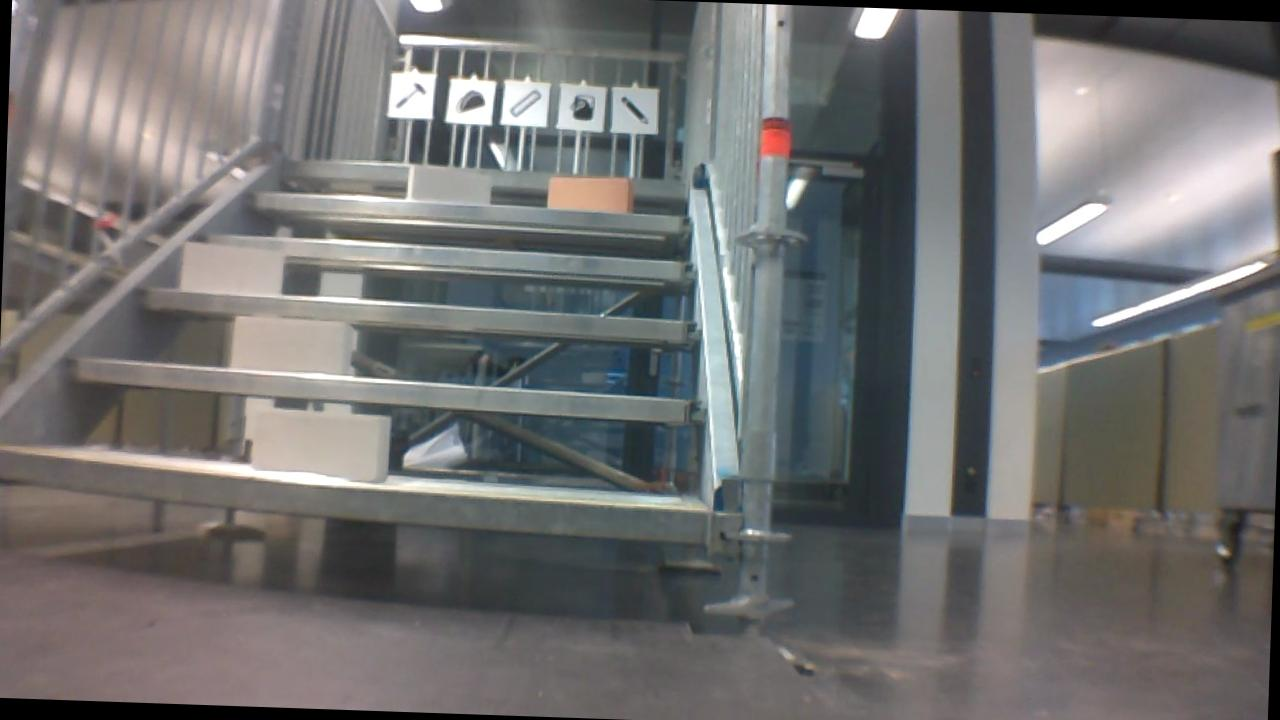brick: (251, 406, 391, 481), (233, 315, 350, 375), (182, 243, 281, 291), (407, 163, 488, 202), (547, 176, 630, 211)
bucket: (564, 87, 597, 124)
edge: (63, 354, 708, 424), (139, 284, 702, 342), (205, 233, 699, 285), (249, 192, 692, 234), (283, 158, 689, 198)
hammer: (391, 81, 428, 115)
pencil: (617, 94, 654, 125)
ruler: (508, 86, 542, 120)
taco: (454, 84, 491, 119)
